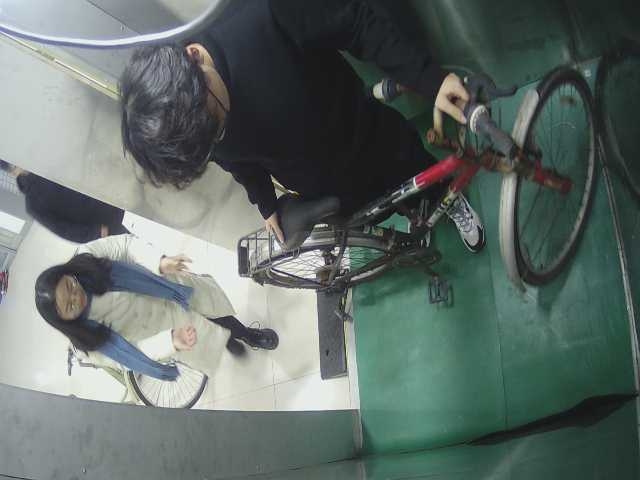bicycle: (229, 63, 618, 318), (62, 340, 218, 415)
person: (117, 1, 502, 263), (37, 237, 291, 375)
